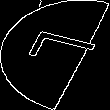L_E: (13, 32, 97, 78)
